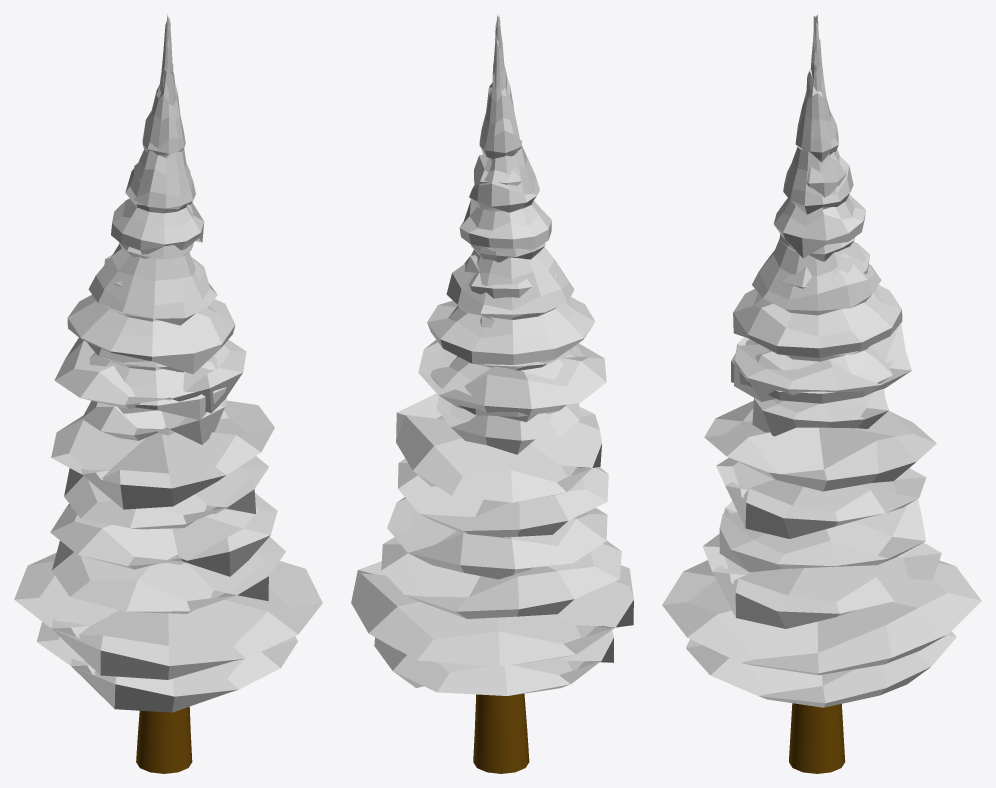
The model's file is tree 5.fbx.
3 views of the same model, side by side, from view 1: azimuth 30°, elevation 25°; view 2: azimuth 150°, elevation 25°; view 3: azimuth 270°, elevation 25° (orthographic).
Visible parts, largest first — view 1: Tree set 3.002, Tree set 1.082; view 2: Tree set 3.002, Tree set 1.082; view 3: Tree set 3.002, Tree set 1.082.
Part boxes in pixels (x1,y1,x2,y2): Tree set 3.002: (14, 14, 322, 712); Tree set 1.082: (136, 706, 192, 773); Tree set 3.002: (351, 14, 633, 695); Tree set 1.082: (473, 693, 529, 773); Tree set 3.002: (662, 14, 981, 707); Tree set 1.082: (789, 703, 845, 773).
Bounding box in the file's own units: 344 × 959 × 371.
